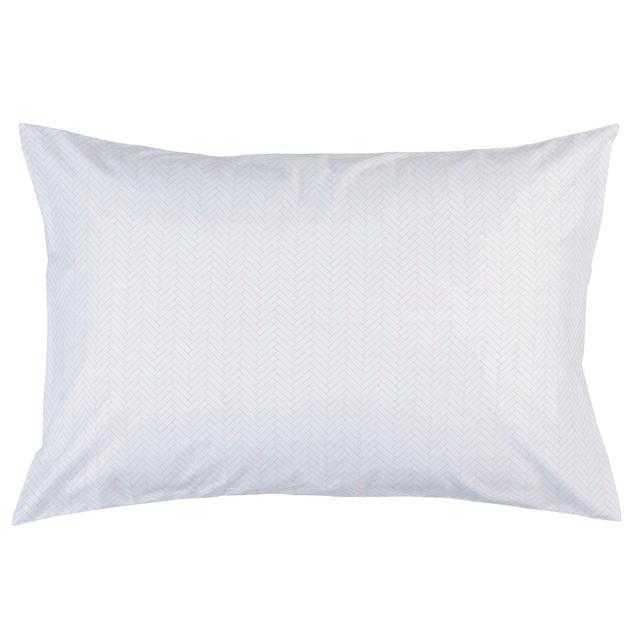pillow: (10, 118, 622, 526)
